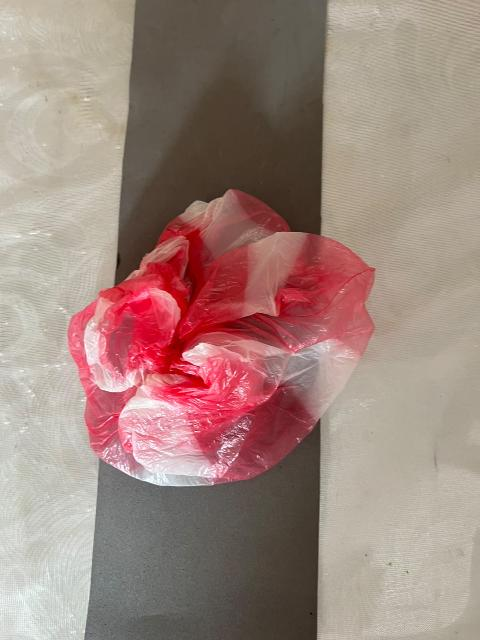LDPE: (46, 163, 401, 567)
